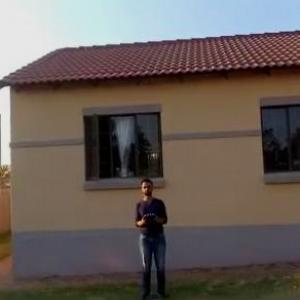follow: (133, 173, 174, 299)
